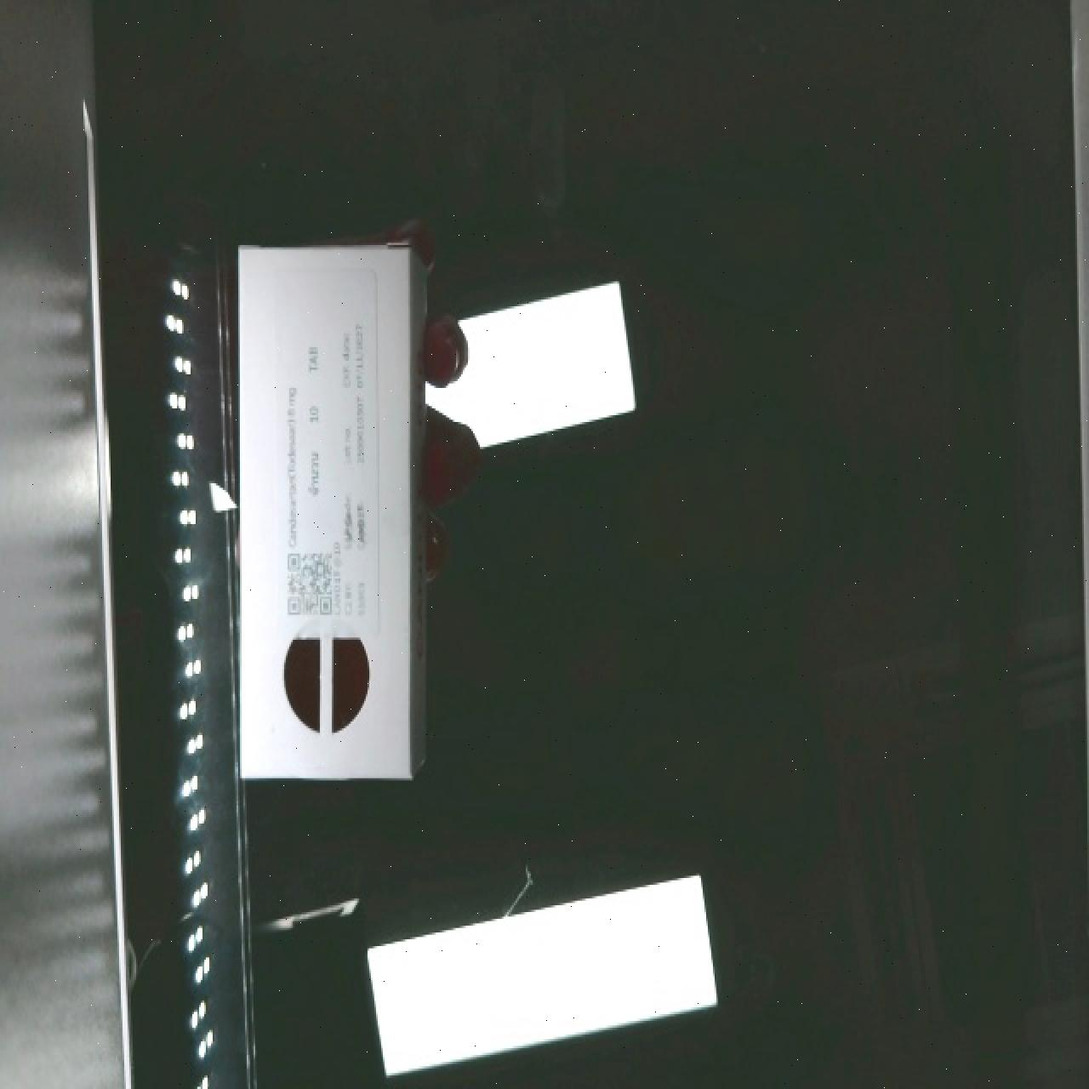qr_code: (269, 537, 351, 630)
